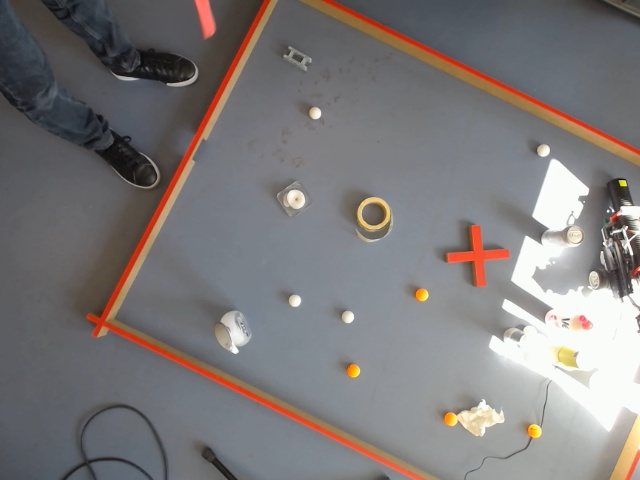orange: (215, 320, 229, 348), (413, 287, 431, 303), (345, 363, 361, 379), (443, 411, 457, 427), (527, 424, 541, 439)
robot: (600, 171, 640, 396)
white: (280, 186, 308, 217), (216, 311, 236, 350), (534, 142, 552, 159), (287, 293, 303, 310), (340, 309, 356, 325), (307, 106, 323, 122), (589, 270, 599, 285)
